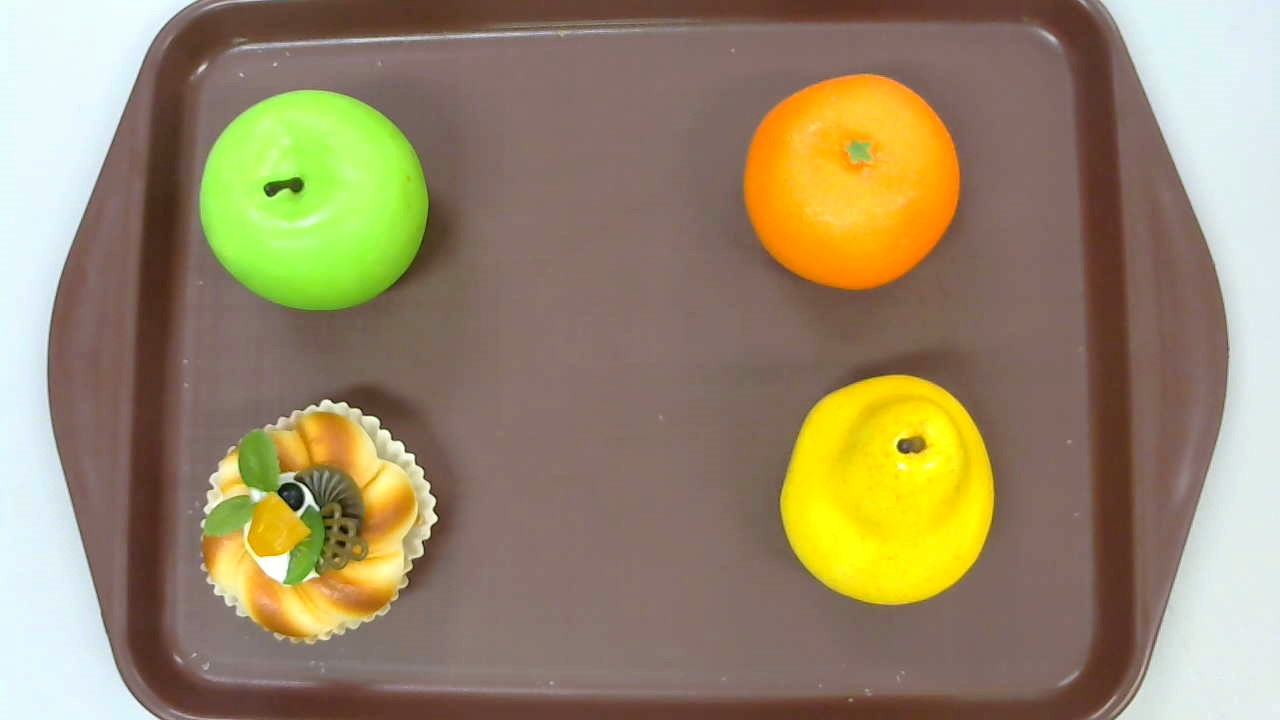fruit tower: (201, 398, 437, 646)
green apple: (199, 90, 428, 312)
orange: (743, 73, 961, 291)
yellow pear: (779, 374, 995, 607)
